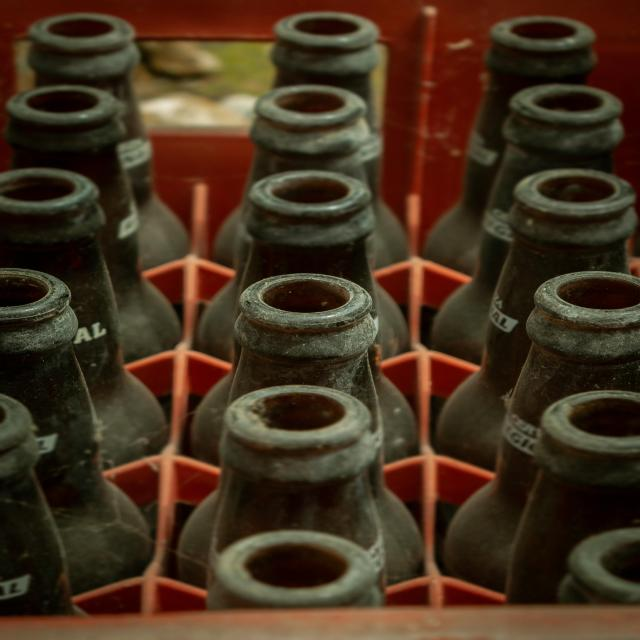electronic: (8, 12, 640, 605)
